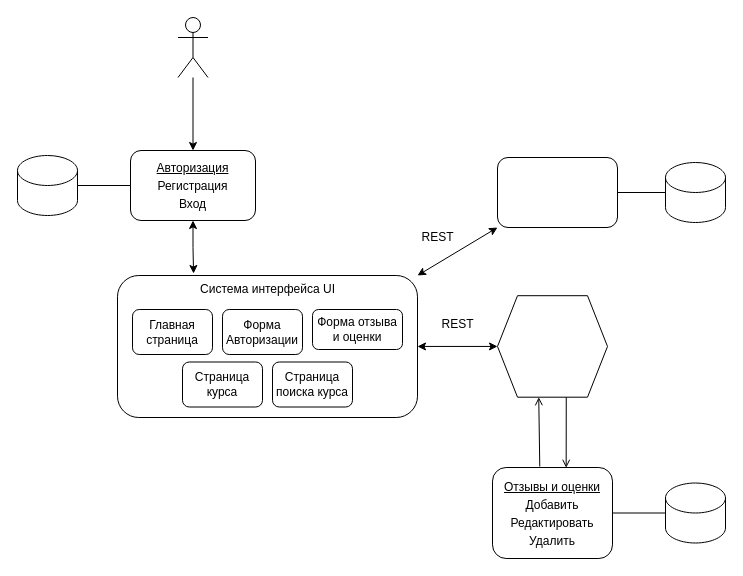
Some shapes in this 743 by 576 pixel diagram are drawn without their labels. Here are the shapes that lost their labels. From the top down, the box of each, then its label:
(177, 16, 208, 78): Пользователь
(496, 156, 618, 228): Учебные курсы Поиск Просмотр
(496, 295, 608, 397): API-композитор (GATEWAY)
